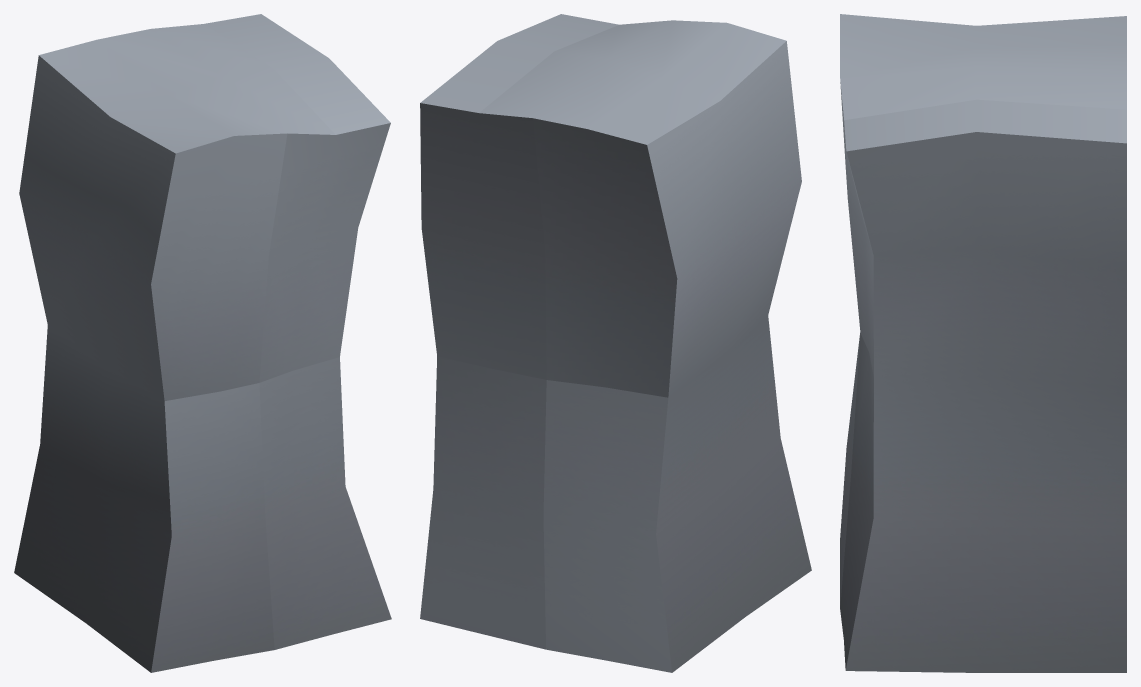
Rendered from Wall_Segement4.fbx.
The picture shows the model from 3 angles, left to right: view 1: azimuth 30°, elevation 25°; view 2: azimuth 150°, elevation 25°; view 3: azimuth 270°, elevation 25°; orthographic projection. The views are drawn at different scales.
Visible parts, largest first — view 1: Wall_Segement4; view 2: Wall_Segement4; view 3: Wall_Segement4.
Boxes of the visible parts, x1,y1,x2,y2 form: Wall_Segement4: [14, 14, 391, 672]; Wall_Segement4: [420, 14, 811, 672]; Wall_Segement4: [840, 14, 1126, 672].
Bounding box in the file's own units: 0.9171 × 1.86 × 0.8801.
Materials: 1 (1 with a texture image).
